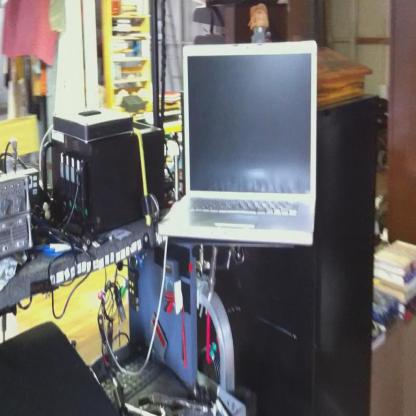board: (157, 41, 316, 244)
